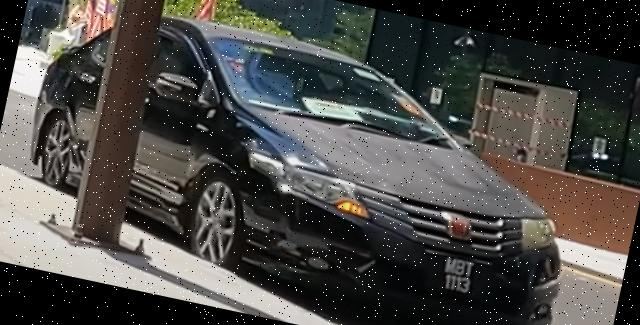License_Plate: (437, 254, 479, 296)
car: (9, 1, 601, 325)
